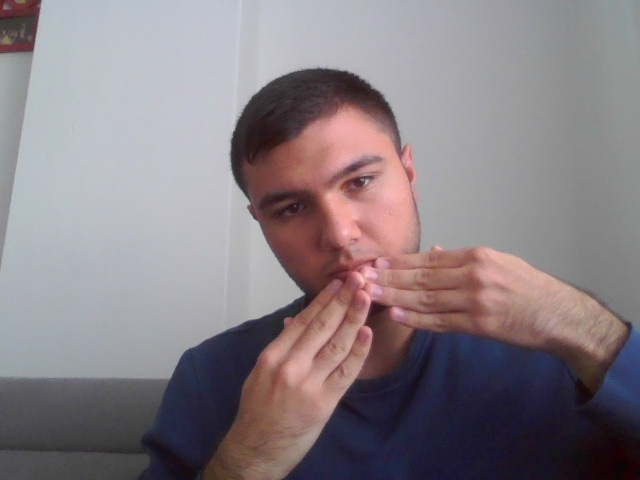thanks: (179, 247, 626, 465)
